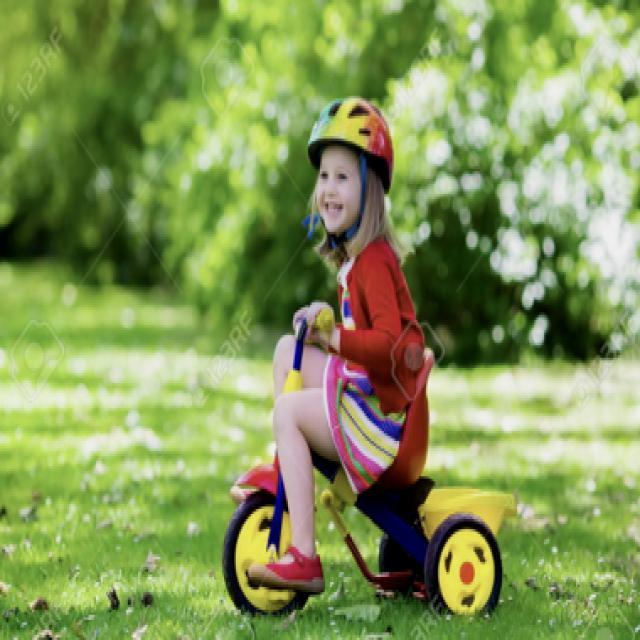Helmet: (302, 85, 398, 262)
